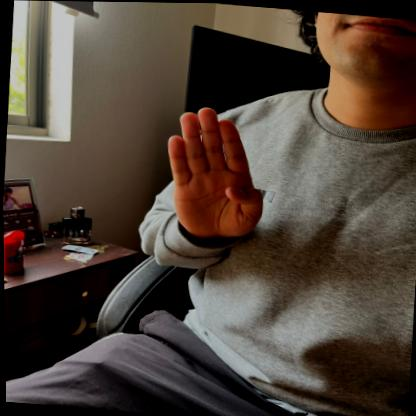B: (151, 97, 273, 248)
